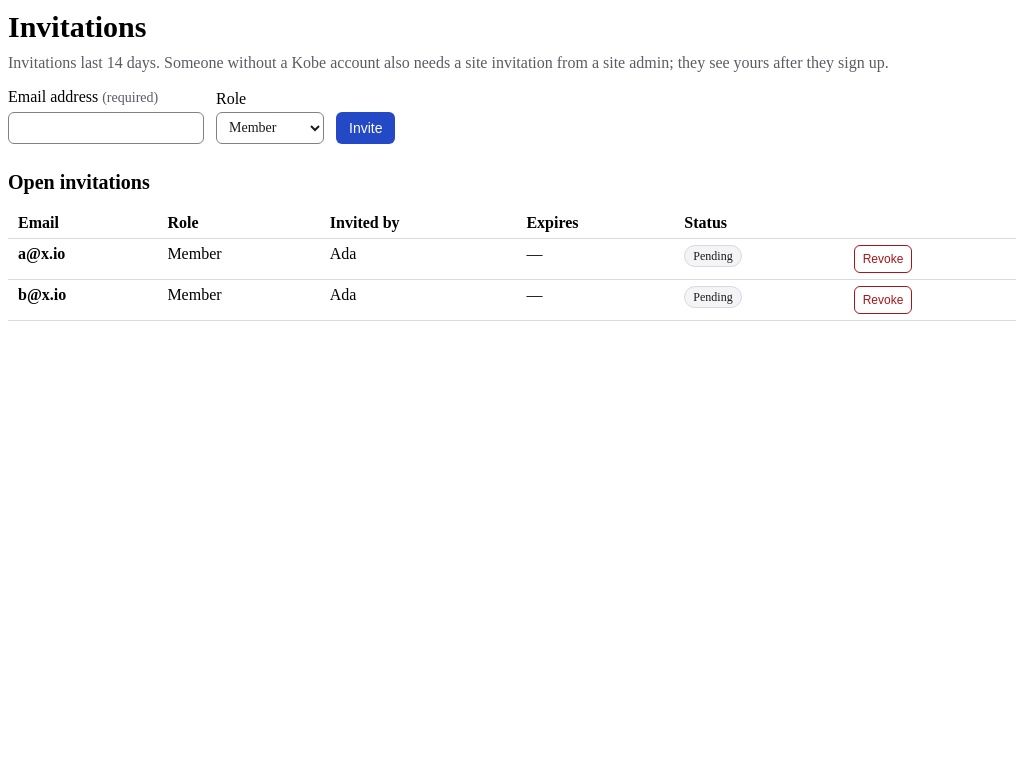
Test: Team invitations: errors, badges and focus (KOBE-294 review) › after a revoke, focus moves to the next row's Revoke, or to the list's heading
Step 1. Click the button "Revoke" in the row of "a@x.io" → (883, 258), box [854,244,912,272]
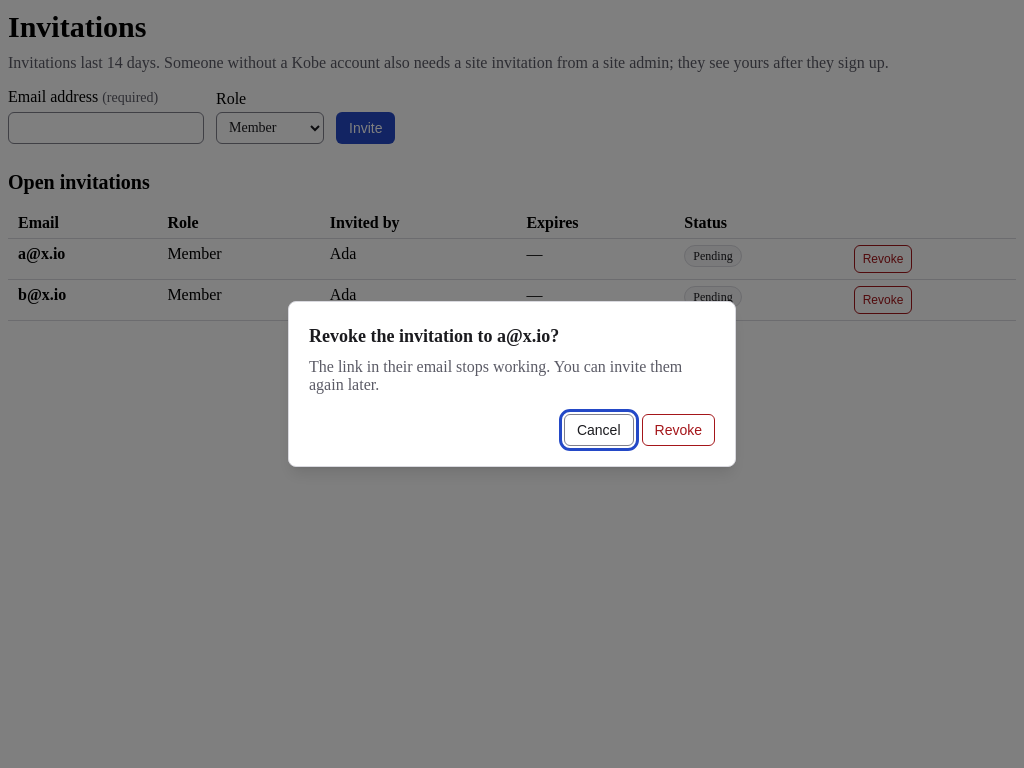
Step 2. Click the button "Revoke" → (678, 430), box [642,414,715,446]
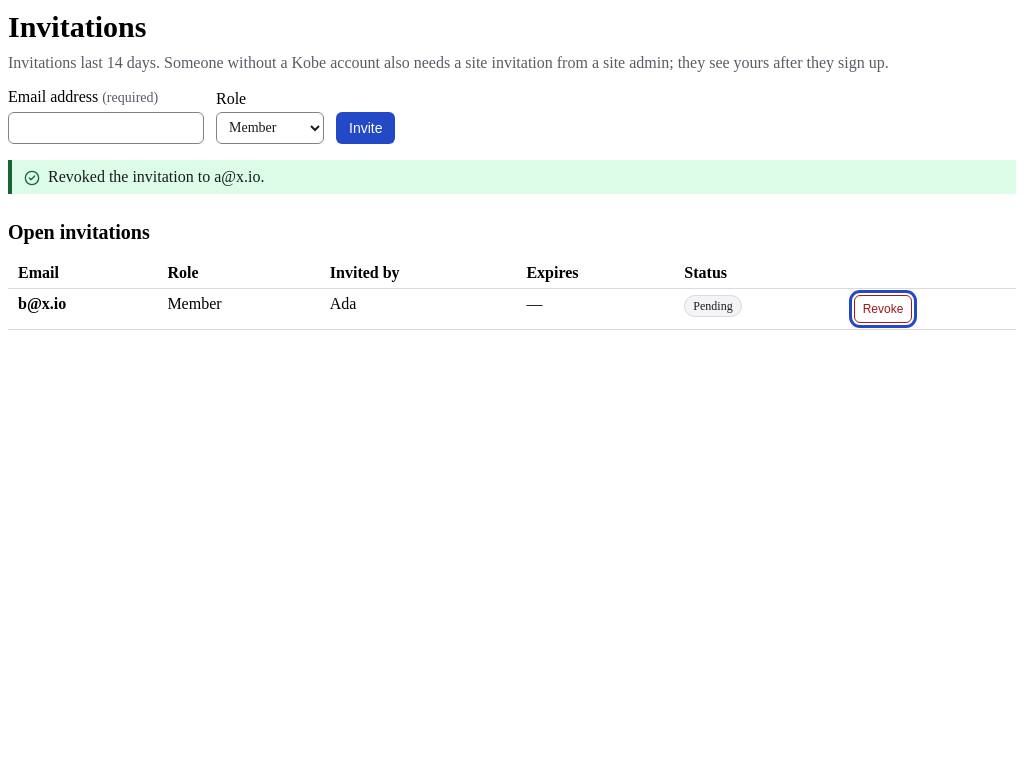
Step 3. Click the button named "Revoke invitation to b@x.io" → (883, 308), box [854,294,912,322]
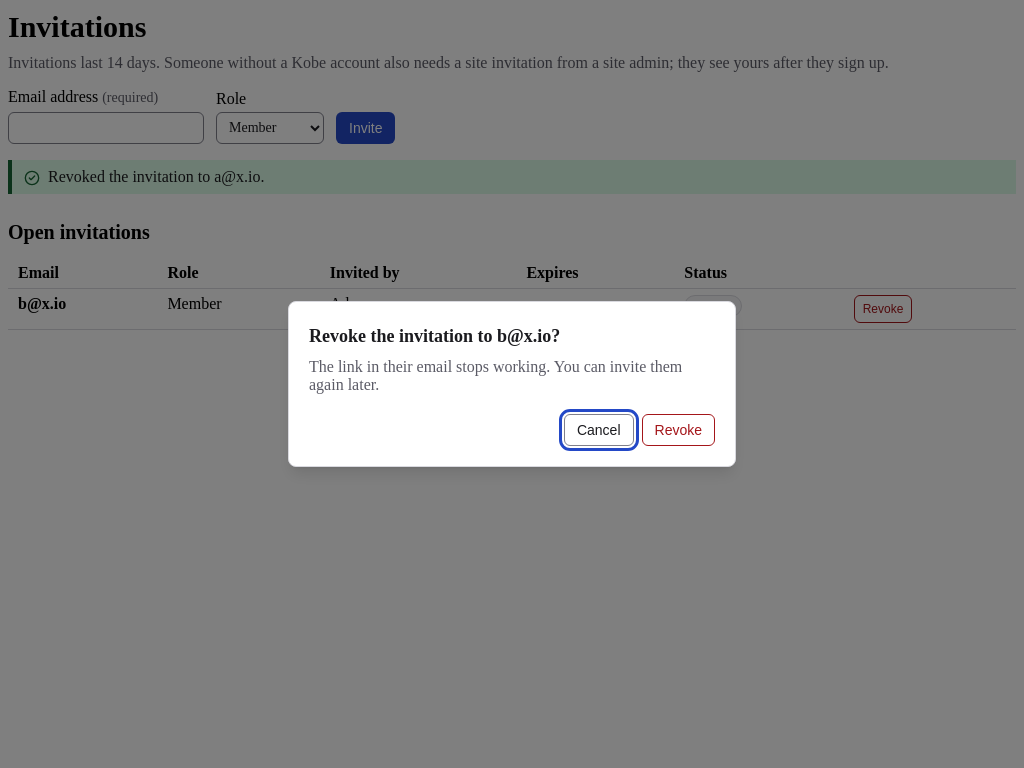
Step 4. Click the button "Revoke" → (678, 430), box [642,414,715,446]
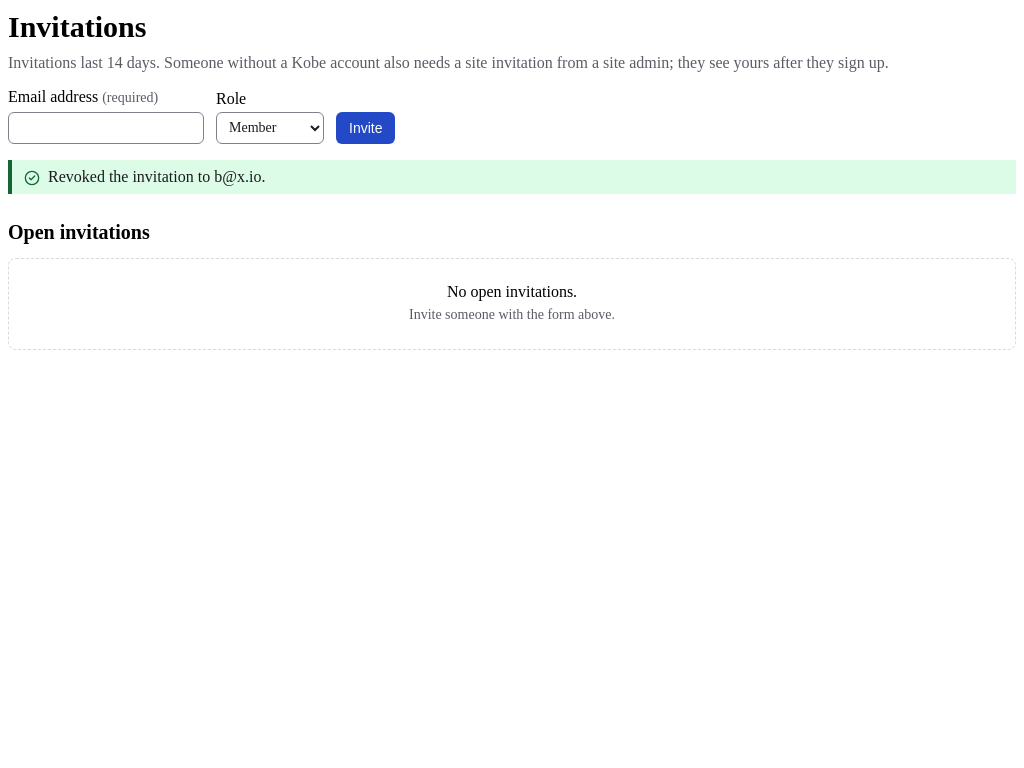
Expected: the heading "Open invitations" is shown, [8,218,150,246]
Now the text "No open invitations." is shown, box [447,282,577,300]
